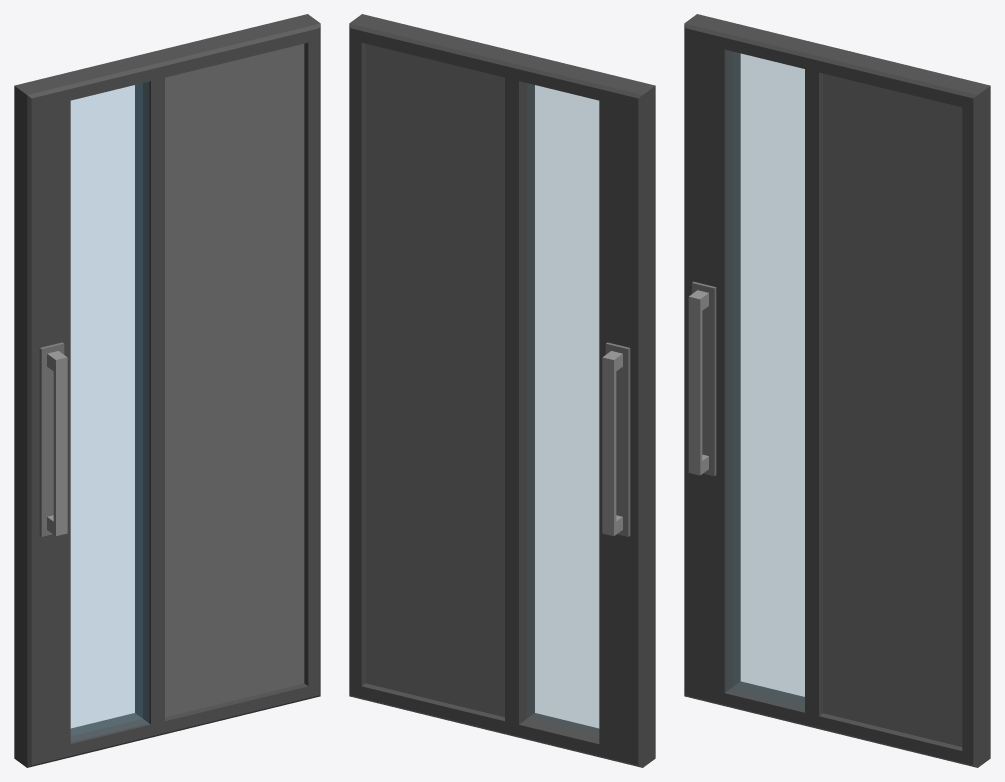
Rendered from SM_Buildings_Football_01_Door_L.fbx.
3 views of the same model, side by side, from view 1: azimuth 30°, elevation 25°; view 2: azimuth 150°, elevation 25°; view 3: azimuth 330°, elevation 25° (orthographic).
Parts seen in each view (by area): view 1: SM_Buildings_Football_01_Door_L; view 2: SM_Buildings_Football_01_Door_L; view 3: SM_Buildings_Football_01_Door_L.
Part boxes in pixels (x1,y1,x2,y2): SM_Buildings_Football_01_Door_L: (14, 14, 320, 767); SM_Buildings_Football_01_Door_L: (349, 14, 655, 767); SM_Buildings_Football_01_Door_L: (684, 14, 990, 767).
Size of the model in its own units: 1.05 by 2.3 by 0.2313.
